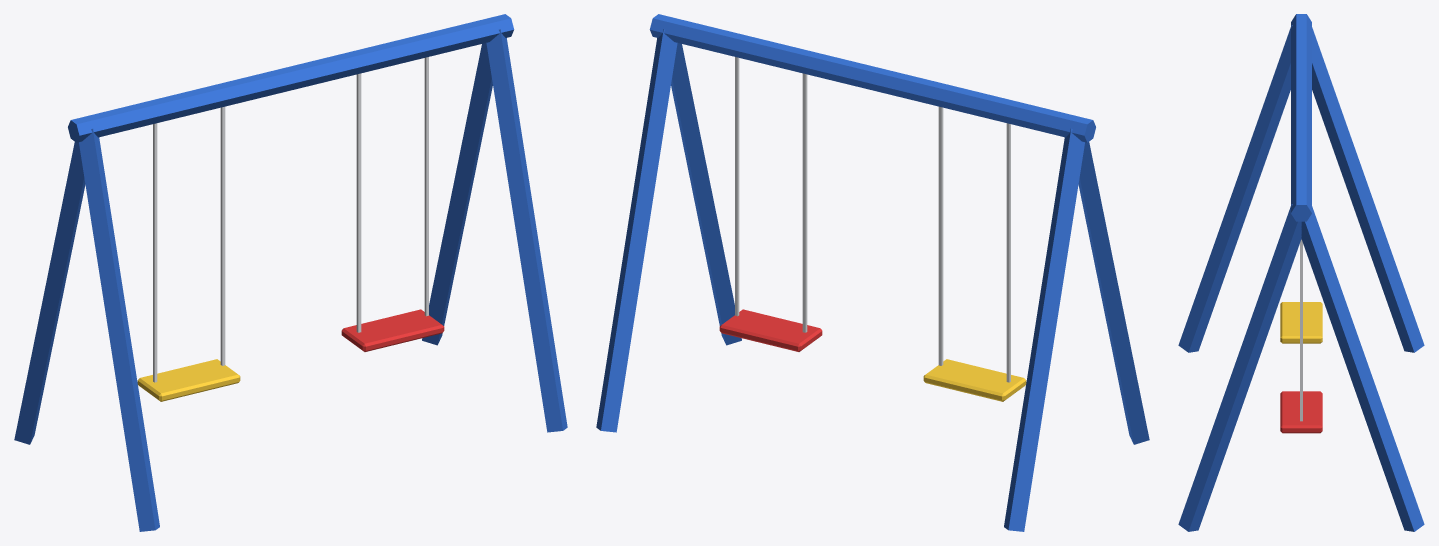
File: SwingSet.fbx
3 views of the same model, side by side, from view 1: azimuth 30°, elevation 25°; view 2: azimuth 150°, elevation 25°; view 3: azimuth 270°, elevation 25° (orthographic). The views are drawn at different scales.
Visible parts, largest first — view 1: SwingSet, SwingSet_SwingR, SwingSet_SwingL; view 2: SwingSet, SwingSet_SwingR, SwingSet_SwingL; view 3: SwingSet, SwingSet_SwingL, SwingSet_SwingR.
Part boxes in pixels (x1=…): SwingSet: x1=14, y1=14, x2=567, y2=531; SwingSet_SwingR: x1=137, y1=106, x2=240, y2=401; SwingSet_SwingL: x1=341, y1=57, x2=444, y2=351; SwingSet: x1=596, y1=14, x2=1149, y2=531; SwingSet_SwingR: x1=923, y1=106, x2=1026, y2=401; SwingSet_SwingL: x1=719, y1=57, x2=822, y2=351; SwingSet: x1=1178, y1=14, x2=1424, y2=531; SwingSet_SwingL: x1=1280, y1=239, x2=1322, y2=433; SwingSet_SwingR: x1=1280, y1=302, x2=1322, y2=343.
Bounding box in the file's own units: 6.4 × 5.18 × 3.49.
1 material, 1 textured.
